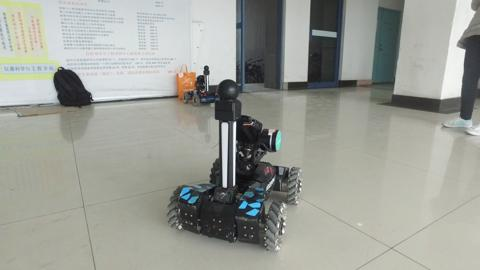bag: (48, 62, 96, 109), (173, 60, 197, 98)
chariot: (165, 76, 303, 253), (180, 63, 219, 107)
